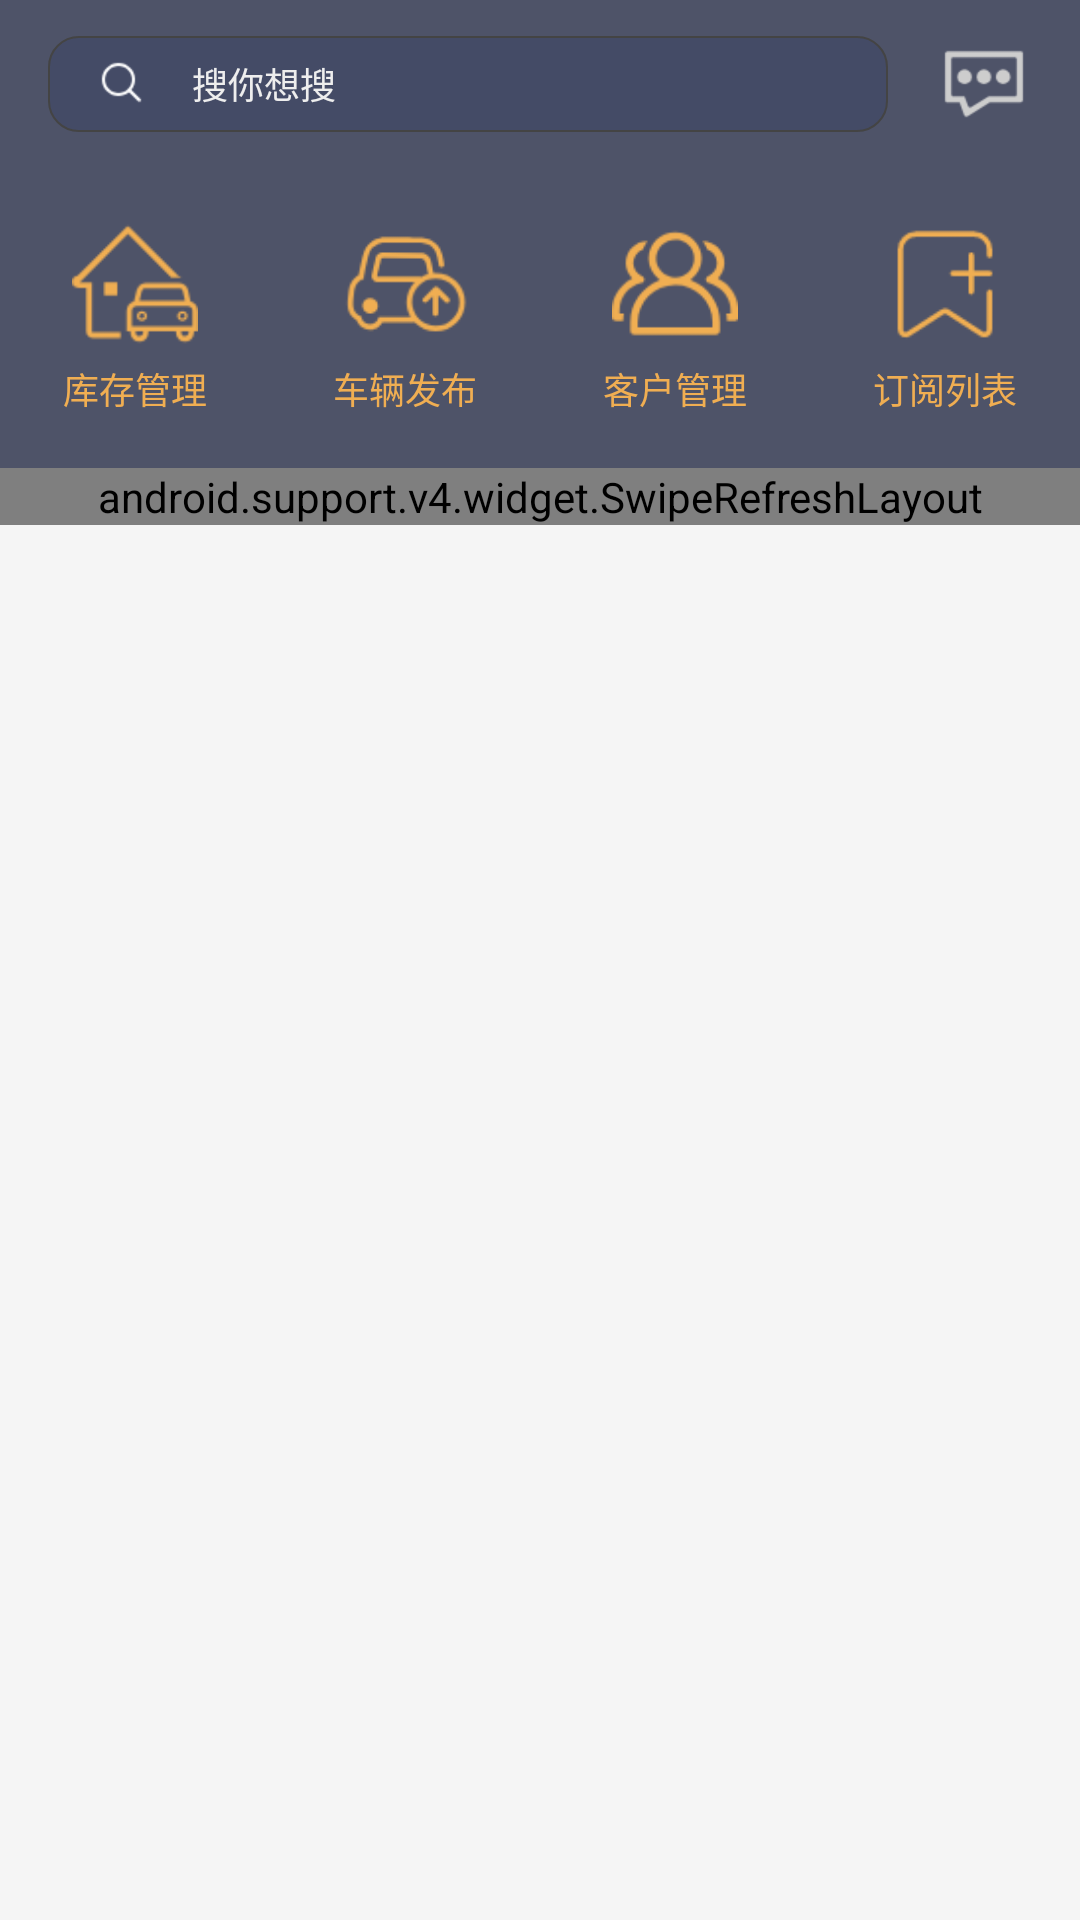

Screen size 1080*1920. Icon name, then its center in pixels as point (x, y):
pic message: point (984, 84)
pic search: point (121, 82)
